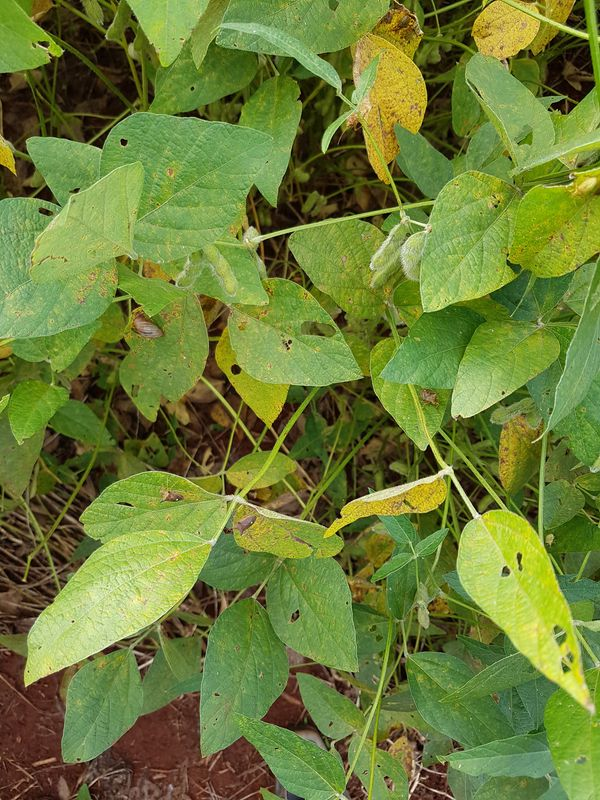Euschistus_heros_adulto: (229, 511, 263, 542), (414, 381, 446, 412), (155, 484, 191, 509)
Euschistus_heros_ninfa: (541, 530, 558, 550)
Gastropoda: (126, 310, 170, 346)
